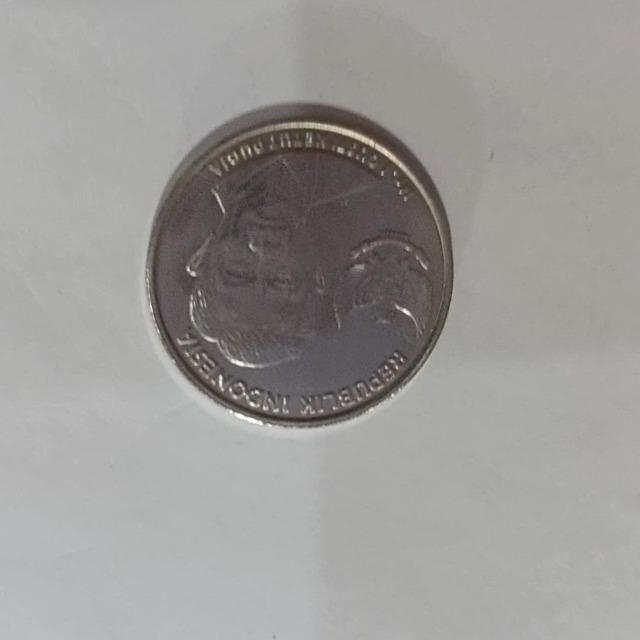Rp100: (143, 102, 455, 430)
